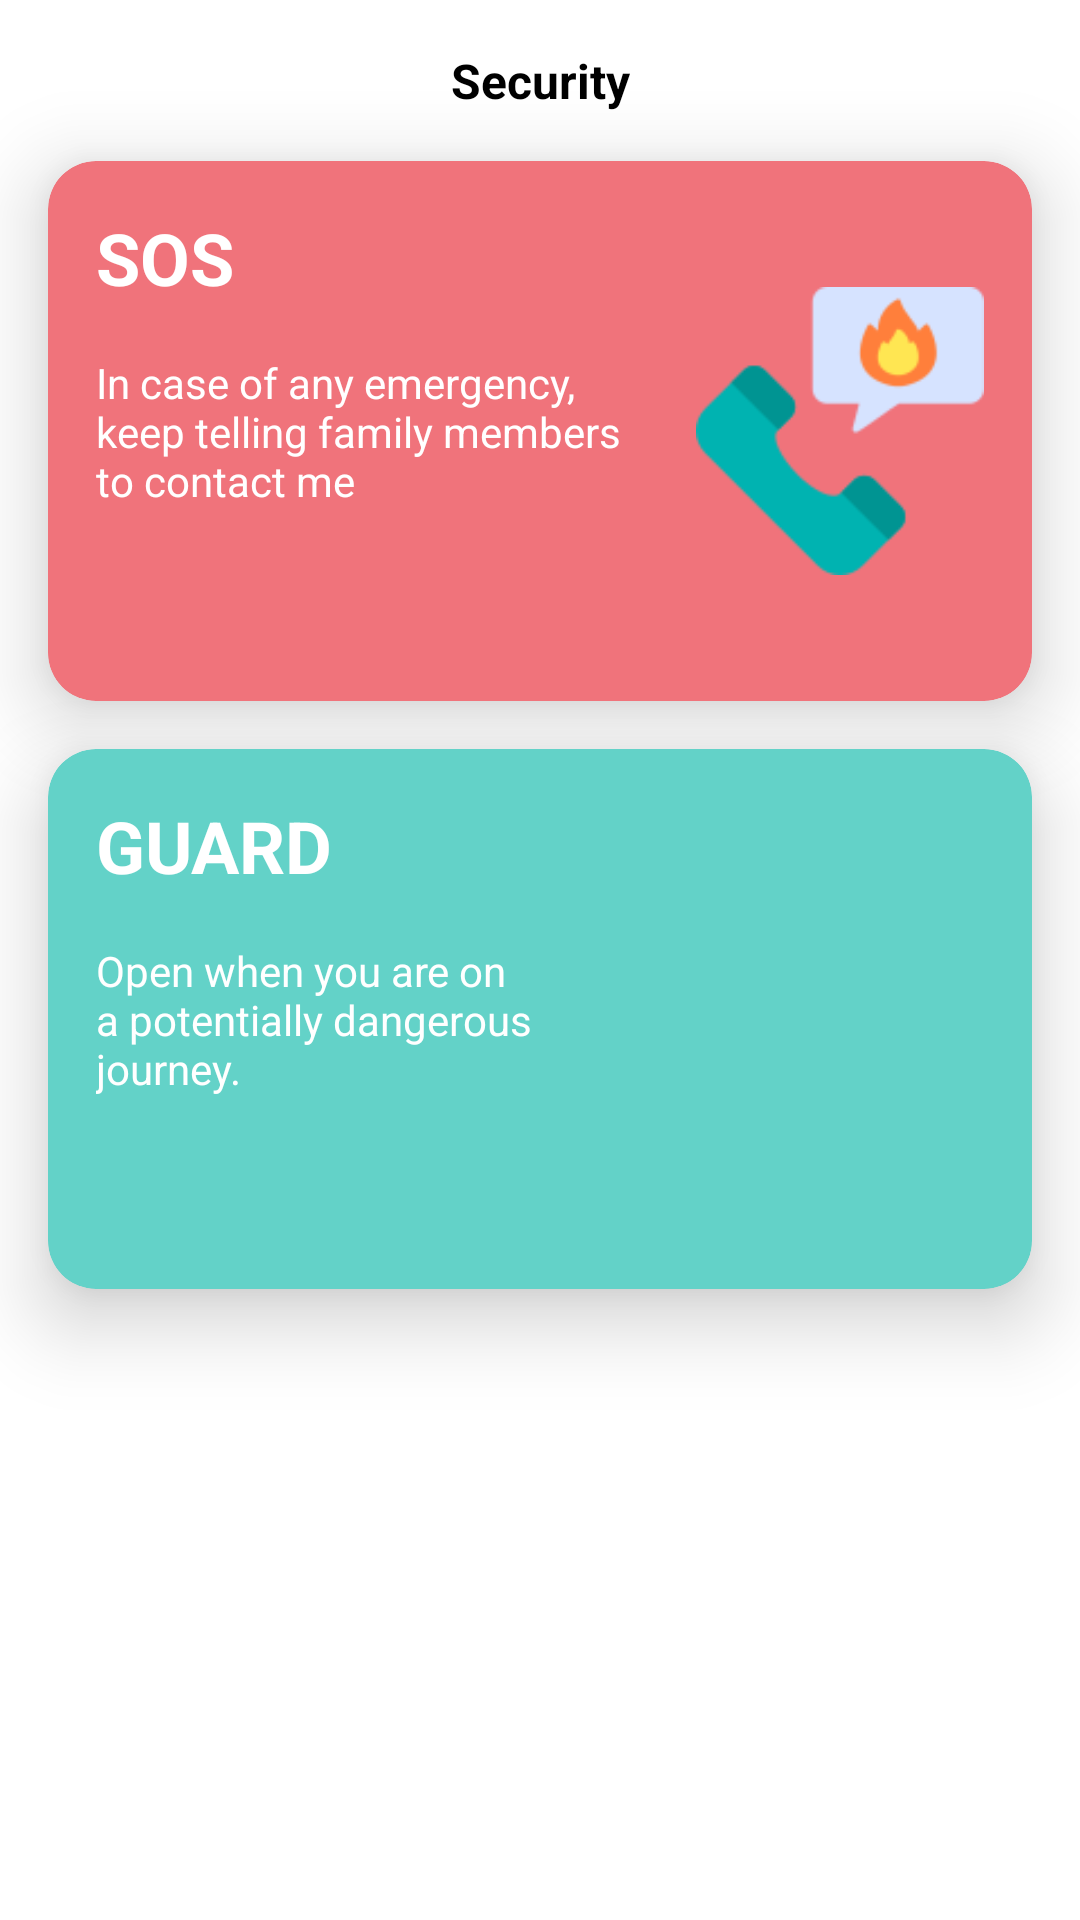

Screen size 1080px×1920px. Icon name, then its center in pixels as (x,y):
sos: (840,431)
